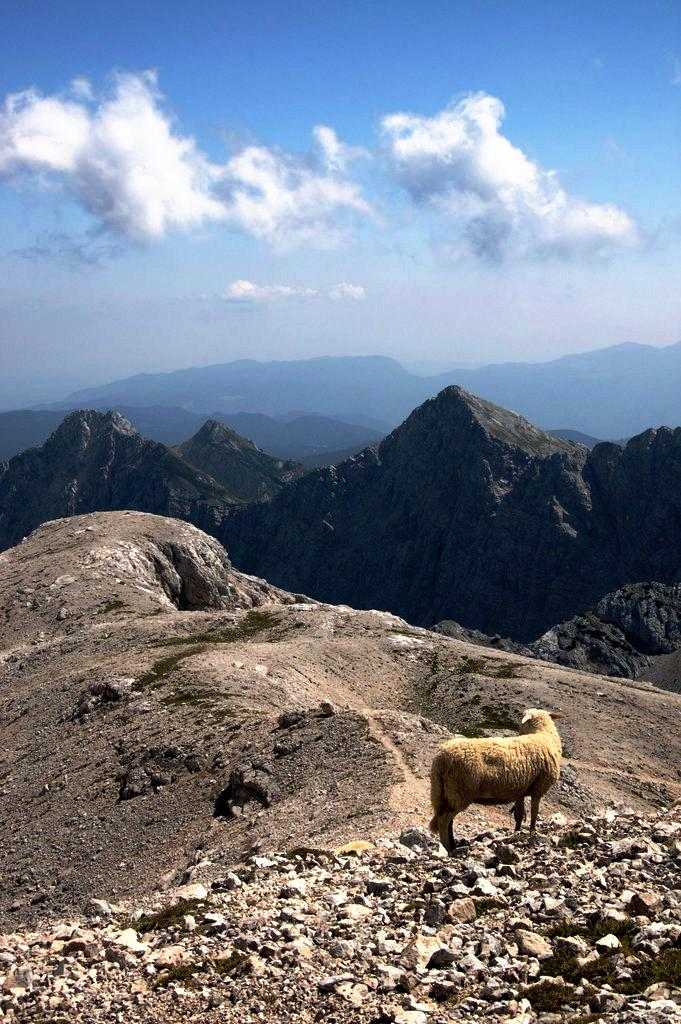Sheep: (426, 700, 572, 853)
